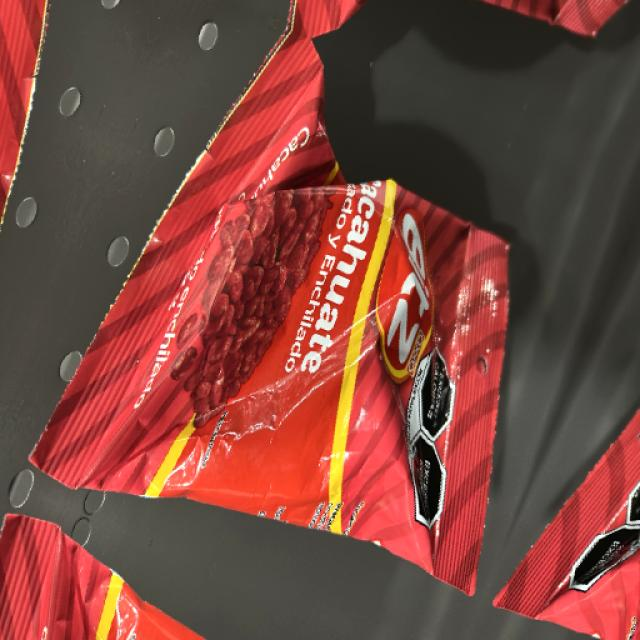bitzEnchilado90: (128, 154, 511, 556)
